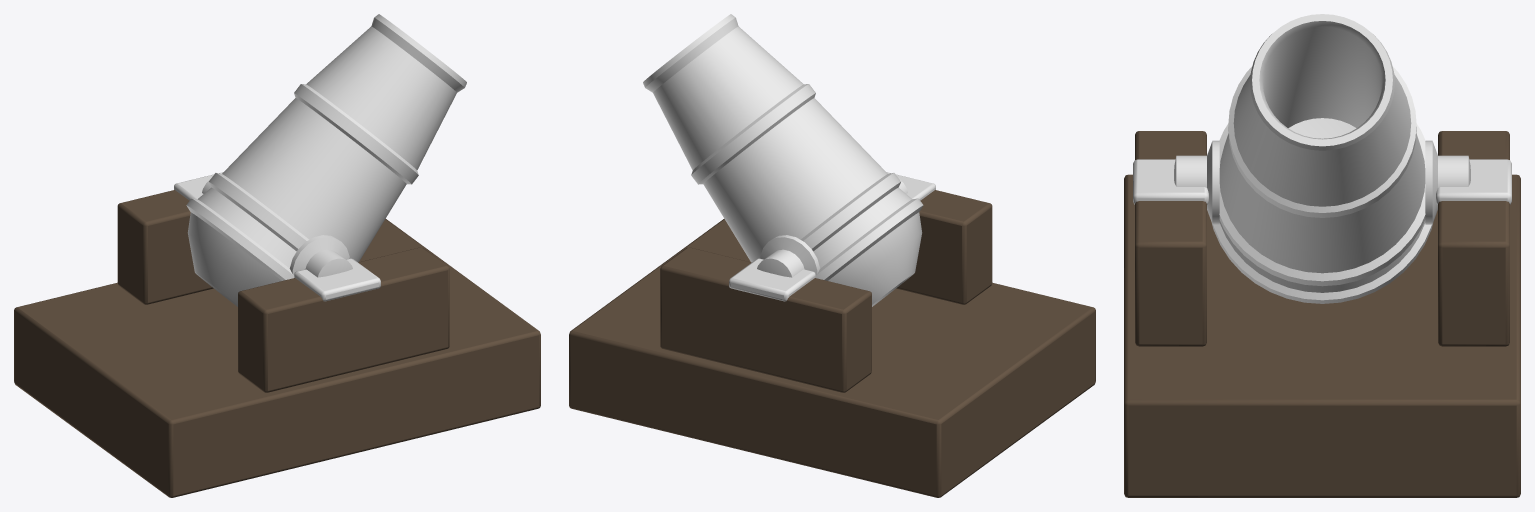
Rendered from SM_MOD_MORTAR_A.fbx.
The picture shows the model from 3 angles, left to right: view 1: azimuth 30°, elevation 25°; view 2: azimuth 150°, elevation 25°; view 3: azimuth 270°, elevation 25°; orthographic projection. The views are drawn at different scales.
Parts seen in each view (by area): view 1: MOD_MORTAR_A, MOD_MORTAR_A_BARREL; view 2: MOD_MORTAR_A, MOD_MORTAR_A_BARREL; view 3: MOD_MORTAR_A, MOD_MORTAR_A_BARREL.
Part boxes in pixels (x1,y1,x2,y2): MOD_MORTAR_A: (14, 172, 540, 497); MOD_MORTAR_A_BARREL: (186, 14, 466, 306); MOD_MORTAR_A: (569, 172, 1095, 497); MOD_MORTAR_A_BARREL: (643, 14, 923, 306); MOD_MORTAR_A: (1124, 131, 1520, 497); MOD_MORTAR_A_BARREL: (1174, 14, 1470, 303).
Size of what is drawn, in the model's own units: 1.5 by 1.34 by 1.1.
